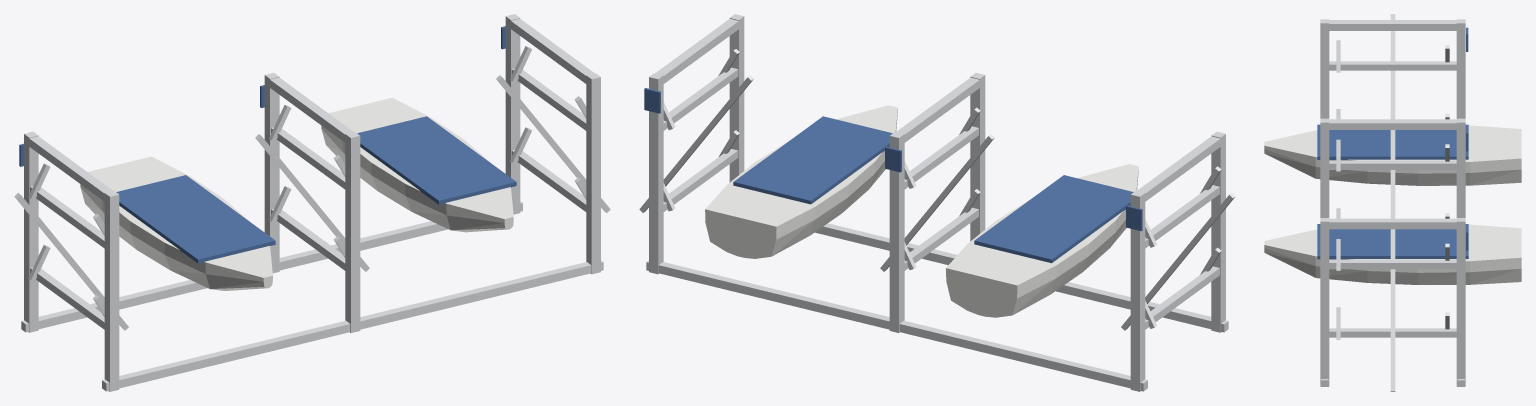
The model's file is marina-and-yacht-club-marina-and-yacht-club-dinghy-rac-62765d59__38311.glb.
The picture shows the model from 3 angles, left to right: view 1: azimuth 30°, elevation 25°; view 2: azimuth 150°, elevation 25°; view 3: azimuth 270°, elevation 25°; orthographic projection. The views are drawn at different scales.
Parts seen in each view (by area): view 1: marina-and-yacht-club-dinghy-rack; view 2: marina-and-yacht-club-dinghy-rack; view 3: marina-and-yacht-club-dinghy-rack.
Part boxes in pixels (x1,y1,x2,y2): marina-and-yacht-club-dinghy-rack: (14,14,610,391); marina-and-yacht-club-dinghy-rack: (639,14,1235,391); marina-and-yacht-club-dinghy-rack: (1264,14,1521,391).
Bounding box in the file's own units: 7.64 × 2.4 × 3.4.
